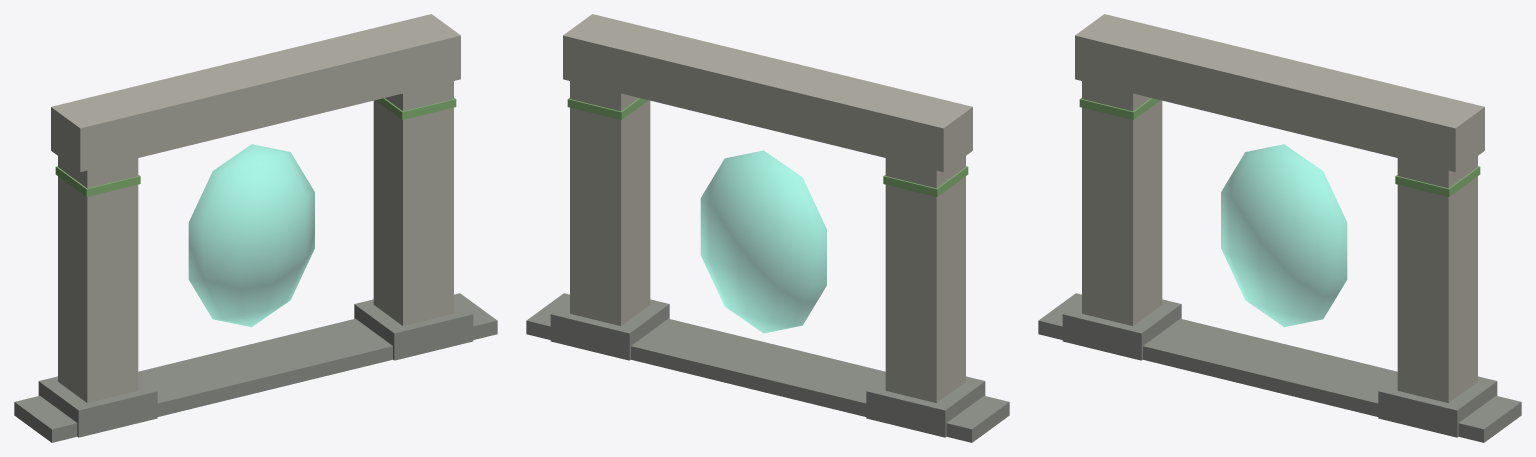
File: river_gate.glb
The picture shows the model from 3 angles, left to right: view 1: azimuth 30°, elevation 25°; view 2: azimuth 150°, elevation 25°; view 3: azimuth 330°, elevation 25°; orthographic projection.
Visible parts, largest first — view 1: river_gate; view 2: river_gate; view 3: river_gate.
Boxes of the visible parts, box(x1,y1,x2,y2) form: river_gate: box(14, 14, 497, 442); river_gate: box(526, 14, 1009, 442); river_gate: box(1038, 14, 1521, 442).
Bounding box in the file's own units: 4.8 × 3.12 × 0.75.
